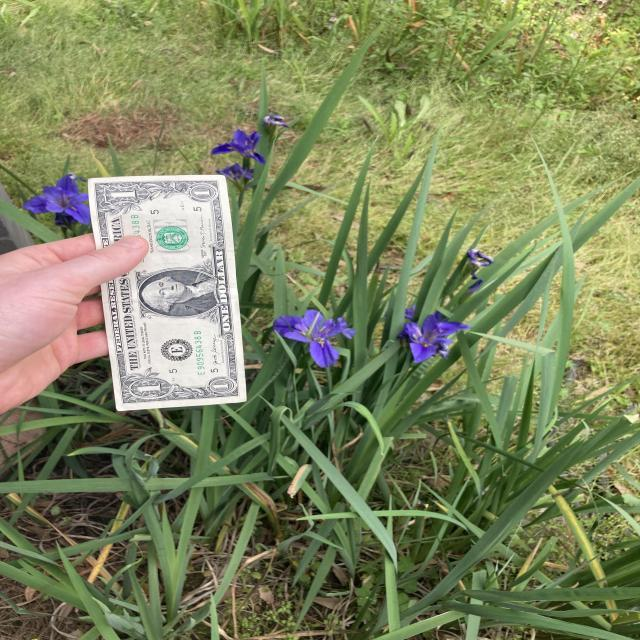one: (87, 173, 248, 412)
